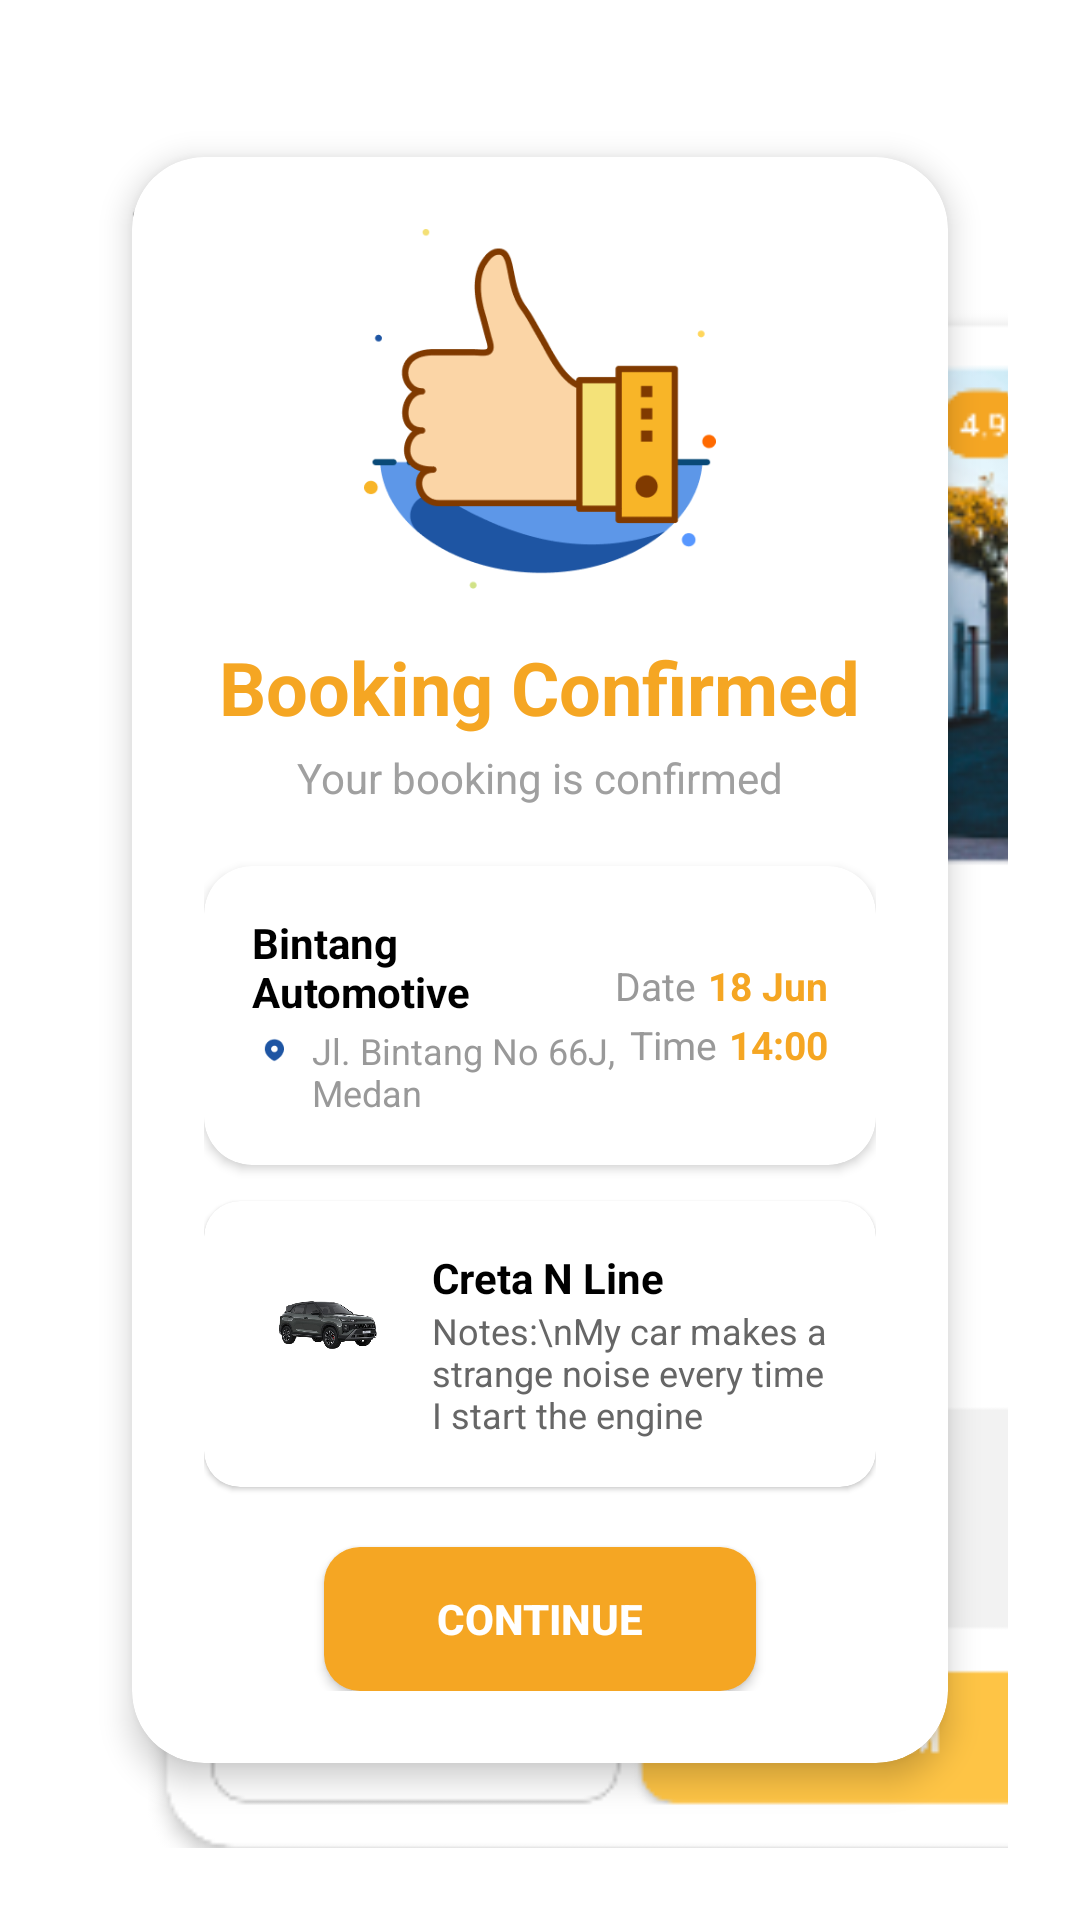

Icon click points for this 1080×1920 phone screenshot, format [x,y]:
Success: [540,409]
